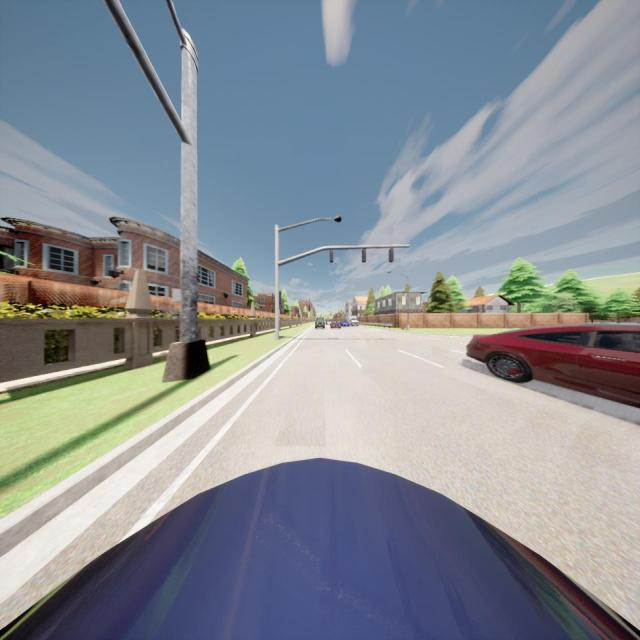Vehicle: (0, 456, 640, 640), (466, 323, 640, 406), (314, 317, 326, 329), (346, 315, 358, 327), (330, 319, 340, 329), (340, 321, 350, 326), (326, 319, 331, 325)
traffic_light: (388, 248, 394, 262), (362, 248, 366, 262), (330, 248, 333, 262)
